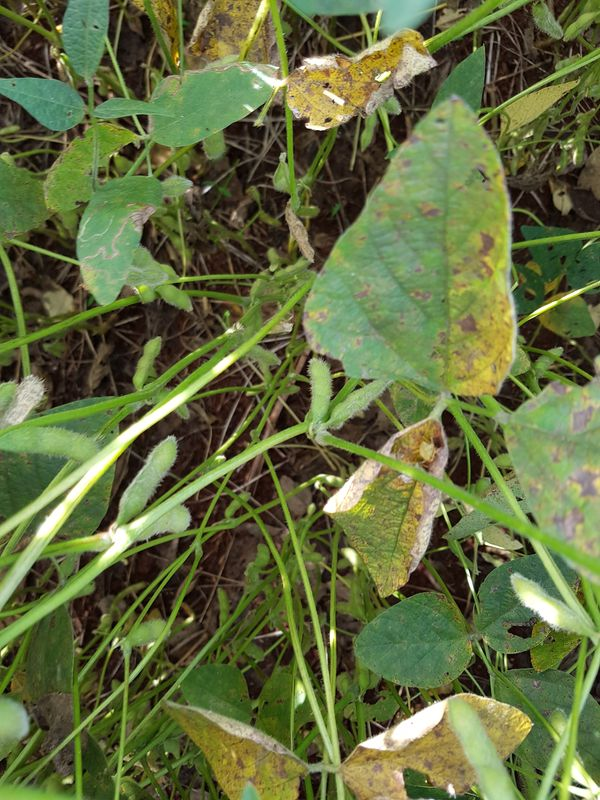Euschistus_heros_ninfa: (413, 436, 441, 468)
